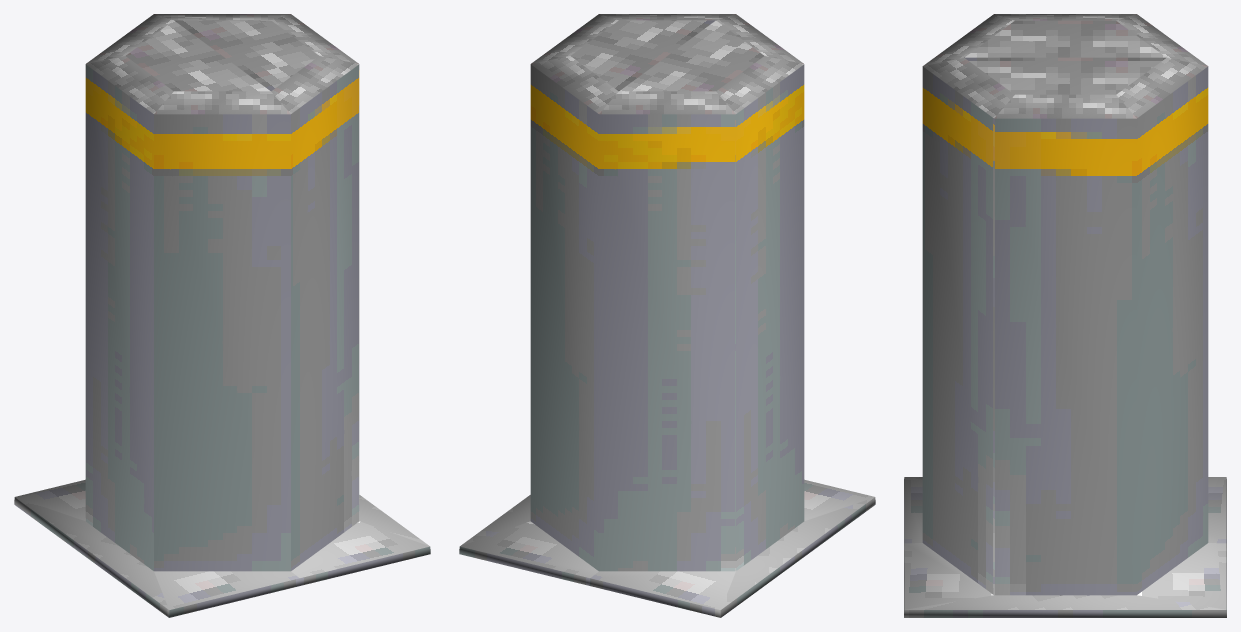
Rendered from security_bollard.glb.
The picture shows the model from 3 angles, left to right: view 1: azimuth 30°, elevation 25°; view 2: azimuth 150°, elevation 25°; view 3: azimuth 270°, elevation 25°; orthographic projection. The views are drawn at different scales.
Parts seen in each view (by area): view 1: security_bollard; view 2: security_bollard; view 3: security_bollard.
Part boxes in pixels (x1,y1,x2,y2): security_bollard: [14, 14, 430, 617]; security_bollard: [459, 14, 875, 617]; security_bollard: [904, 14, 1226, 617].
Size of the model in its own units: 0.4322 by 0.7475 by 0.4431.
Materials: 1 (1 with a texture image).
